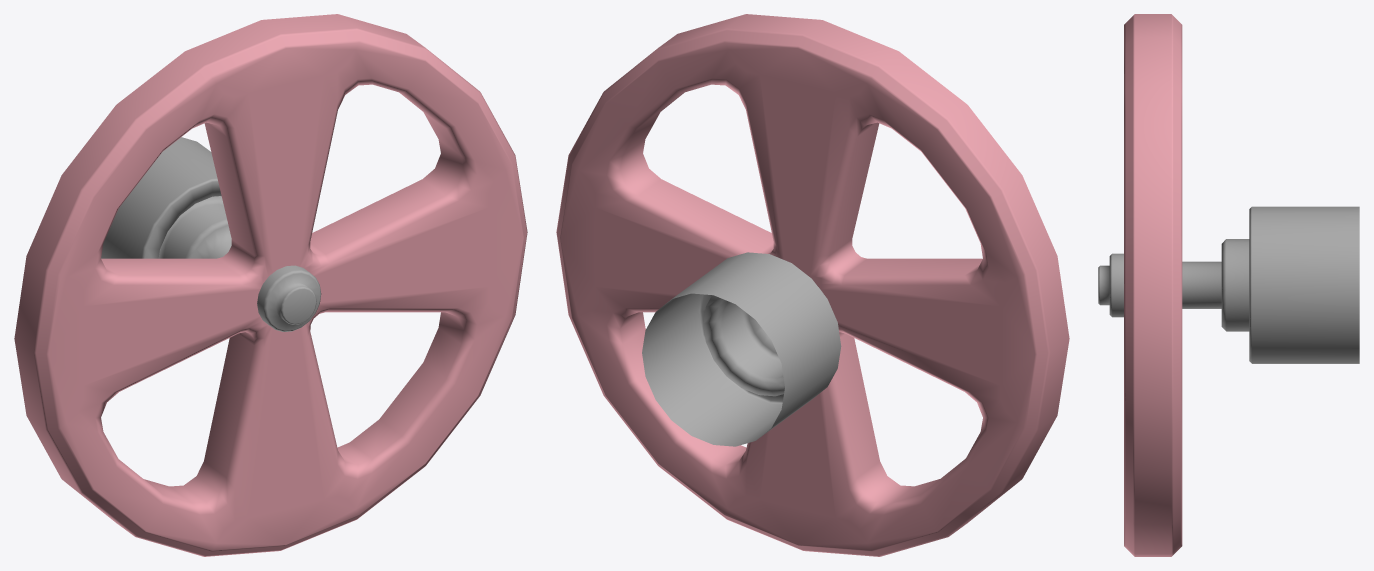
Rendered from valve_fin 1.fbx.
3 views of the same model, side by side, from view 1: azimuth 30°, elevation 25°; view 2: azimuth 150°, elevation 25°; view 3: azimuth 270°, elevation 25° (orthographic). The views are drawn at different scales.
Visible parts, largest first — view 1: pCylinder5, pCylinder1; view 2: pCylinder5, pCylinder1; view 3: pCylinder5, pCylinder1.
Part boxes in pixels (box(x1,y1,x2,y2)): pCylinder5: box(14, 14, 527, 556); pCylinder1: box(101, 137, 231, 258); pCylinder5: box(556, 14, 1069, 556); pCylinder1: box(642, 252, 841, 446); pCylinder5: box(1098, 14, 1182, 556); pCylinder1: box(1182, 206, 1359, 363).
Bounding box in the file's own units: 9.92 × 9.92 × 4.74.
